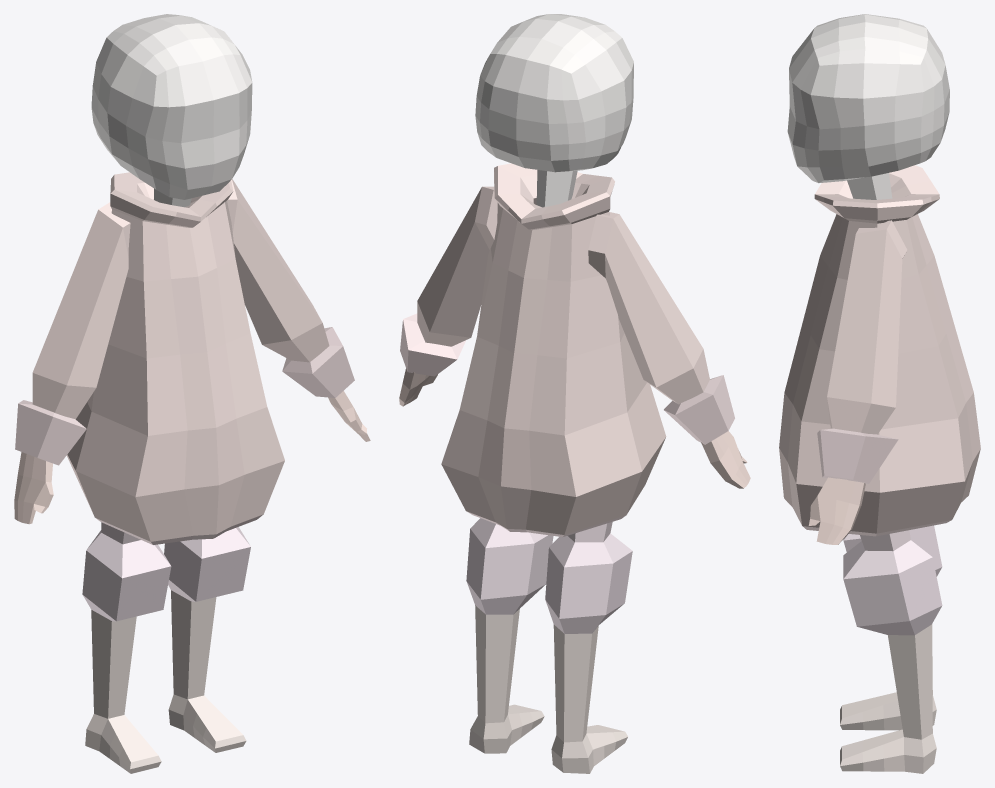
File: Manequin.fbx
3 renders of one model, left to right at view 1: azimuth 30°, elevation 25°; view 2: azimuth 150°, elevation 25°; view 3: azimuth 270°, elevation 25°, orthographic.
Visible parts, largest first — view 1: Cube, Cylinder.001, Cylinder, Cube.001; view 2: Cube, Cylinder, Cylinder.001, Cube.001, Cylinder.002; view 3: Cube, Cube.001, Cylinder, Cylinder.001, Cylinder.002.
Boxes of the visible parts, x1,y1,x2,y2 form: Cube: (66,172,284,544); Cylinder.001: (14,179,370,524); Cylinder: (82,522,250,773); Cube.001: (91,14,252,199); Cube: (441,163,666,536); Cylinder: (466,518,632,773); Cylinder.001: (399,186,750,488); Cube.001: (475,14,633,172); Cylinder.002: (536,170,577,207); Cube: (779,165,980,536); Cube.001: (787,14,949,183); Cylinder: (840,525,942,773); Cylinder.001: (808,220,907,544); Cylinder.002: (847,173,892,199).
Size of the model in its own units: 152 by 302 by 76.45.
